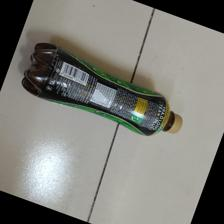Olong: (17, 43, 183, 137)
